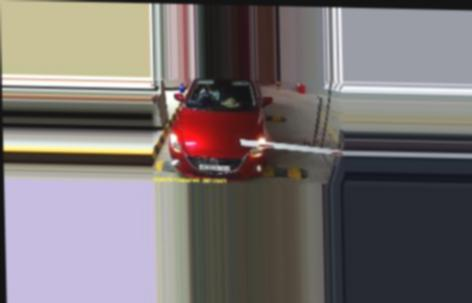License_Plate: (198, 163, 233, 173)
